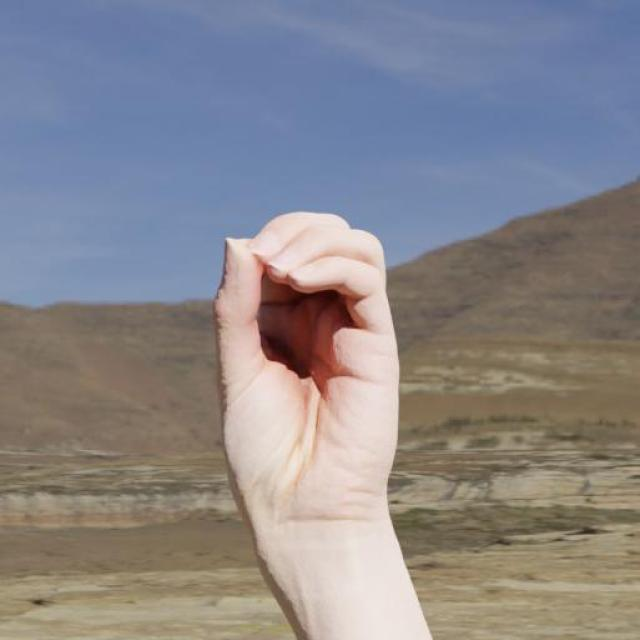O: (178, 178, 446, 554)
